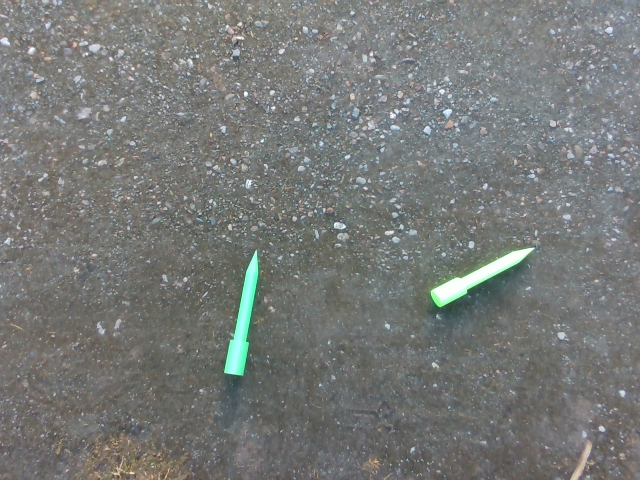Probe: (426, 236, 539, 315), (220, 245, 266, 380)
